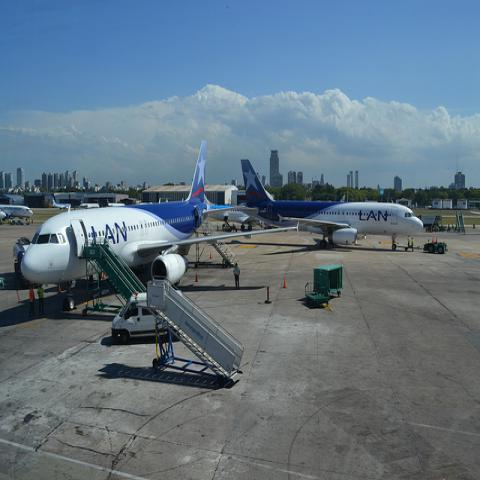car: (109, 293, 175, 342)
